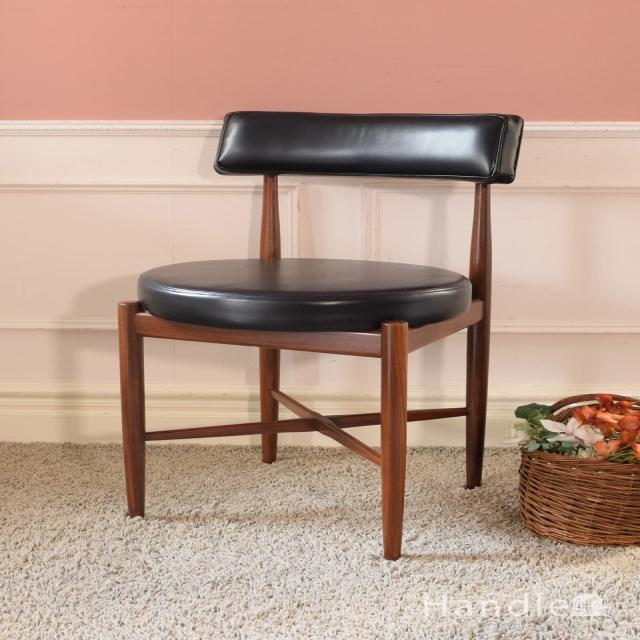chair vintage: (103, 105, 519, 562)
